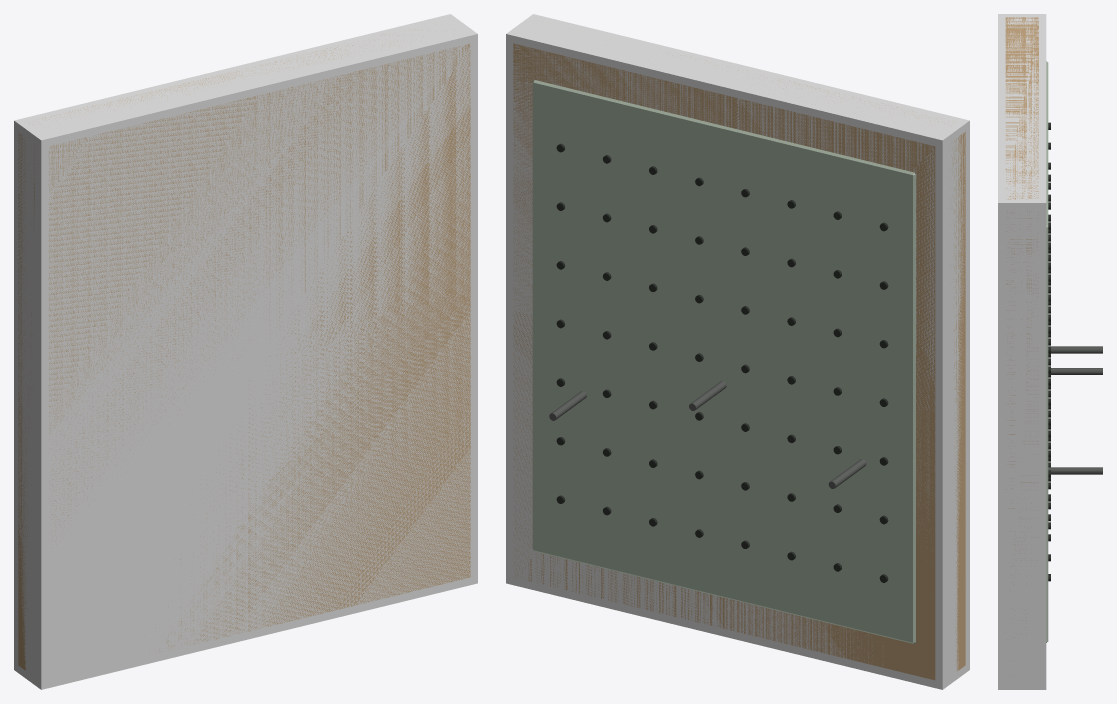
Rendered from standard.glb.
3 views of the same model, side by side, from view 1: azimuth 30°, elevation 25°; view 2: azimuth 150°, elevation 25°; view 3: azimuth 270°, elevation 25° (orthographic). The views are drawn at different scales.
Parts seen in each view (by area): view 1: COL_PEGBOARD_WALLS_STANDARD, Pegboard_Frame.001; view 2: Pegboard_Field.001, COL_PEGBOARD_WALLS_STANDARD, Pegboard_Frame.001; view 3: COL_PEGBOARD_WALLS_STANDARD, Pegboard_Frame.001, Pegboard_Field.001, PegHook_3, PegHook_1.001, PegHook_2.001.
Part boxes in pixels (x1,y1,x2,y2): COL_PEGBOARD_WALLS_STANDARD: [14, 14, 477, 689]; Pegboard_Frame.001: [18, 30, 470, 670]; Pegboard_Field.001: [532, 80, 915, 643]; COL_PEGBOARD_WALLS_STANDARD: [506, 14, 969, 689]; Pegboard_Frame.001: [513, 43, 965, 680]; COL_PEGBOARD_WALLS_STANDARD: [998, 14, 1046, 689]; Pegboard_Frame.001: [1005, 17, 1038, 634]; Pegboard_Field.001: [1046, 61, 1048, 642]; PegHook_3: [1048, 467, 1102, 474]; PegHook_1.001: [1051, 346, 1102, 353]; PegHook_2.001: [1048, 368, 1102, 374].
Bounding box in the file's own units: 1.48 × 1.78 × 0.3472.
